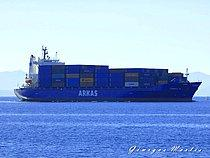Ship: (14, 49, 205, 105)
